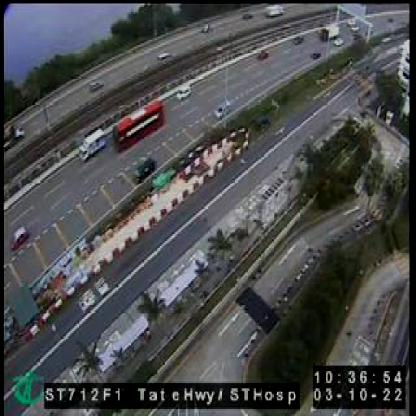Bus: (112, 102, 162, 149)
Car: (136, 158, 154, 182), (177, 87, 191, 97)
Truck: (79, 126, 104, 160)
